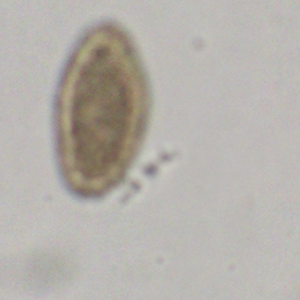Fasciola_hepatica_egg: (54, 18, 152, 200)
